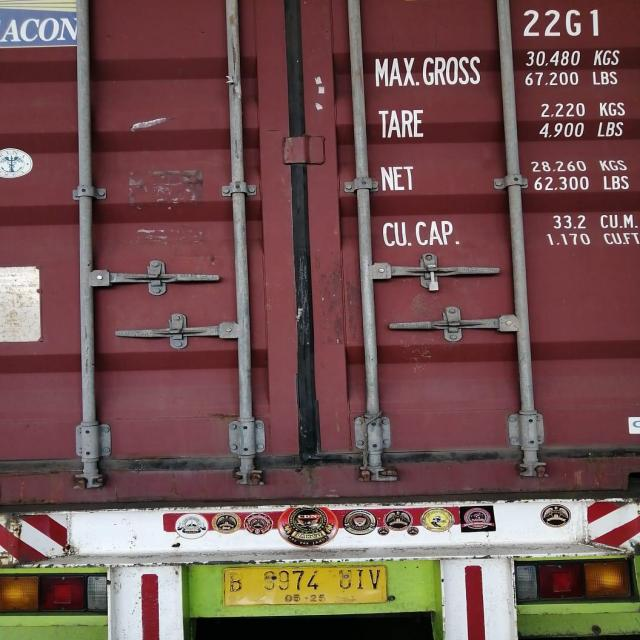seal: (419, 256, 443, 290)
